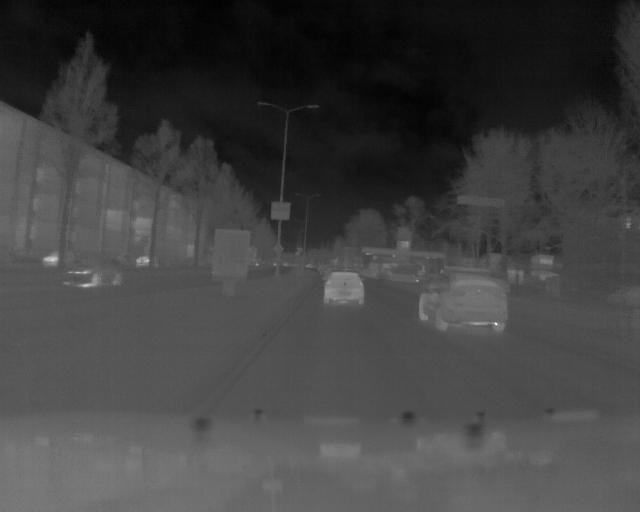car: (418, 279, 513, 333), (63, 259, 124, 292), (326, 267, 366, 306), (134, 255, 158, 270)
